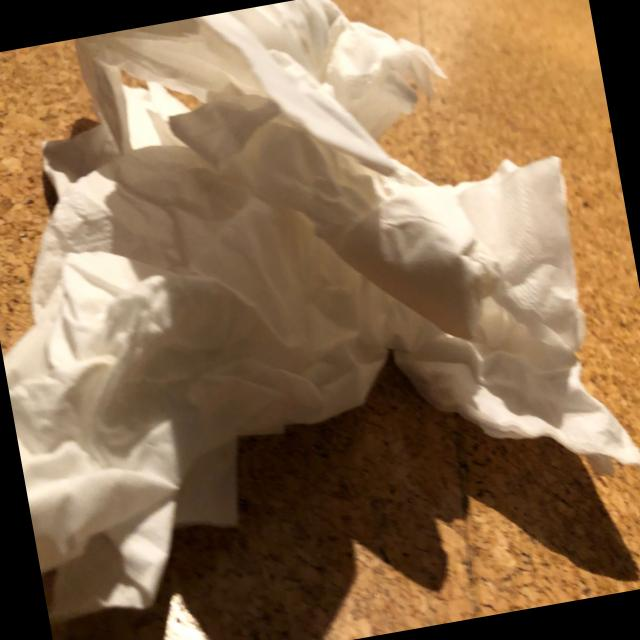organic waste: (81, 0, 640, 567), (0, 69, 427, 626)
